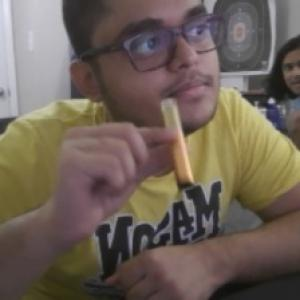Golden-E-Ciggirate: (157, 95, 200, 191)
